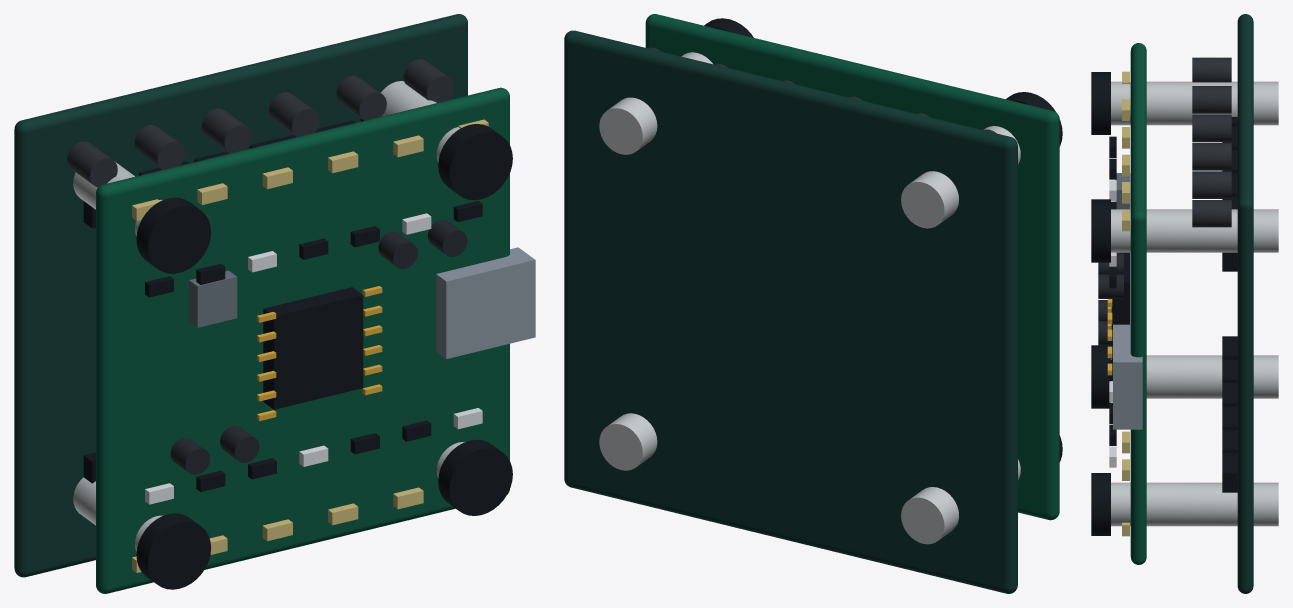
The model's file is speedybee-f405-v4-stack.glb.
3 renders of one model, left to right at view 1: azimuth 30°, elevation 25°; view 2: azimuth 150°, elevation 25°; view 3: azimuth 270°, elevation 25°, orthographic. The views are drawn at different scales.
Visible parts, largest first — view 1: SpeedyBee_F405_V4_BLS55A_stack_spec_model; view 2: SpeedyBee_F405_V4_BLS55A_stack_spec_model; view 3: SpeedyBee_F405_V4_BLS55A_stack_spec_model.
Part boxes in pixels (x1,y1,x2,y2): SpeedyBee_F405_V4_BLS55A_stack_spec_model: (14, 14, 535, 593); SpeedyBee_F405_V4_BLS55A_stack_spec_model: (564, 14, 1062, 593); SpeedyBee_F405_V4_BLS55A_stack_spec_model: (1091, 14, 1278, 593).
Bounding box in the file's own units: 0.0456 × 0.044 × 0.019.
